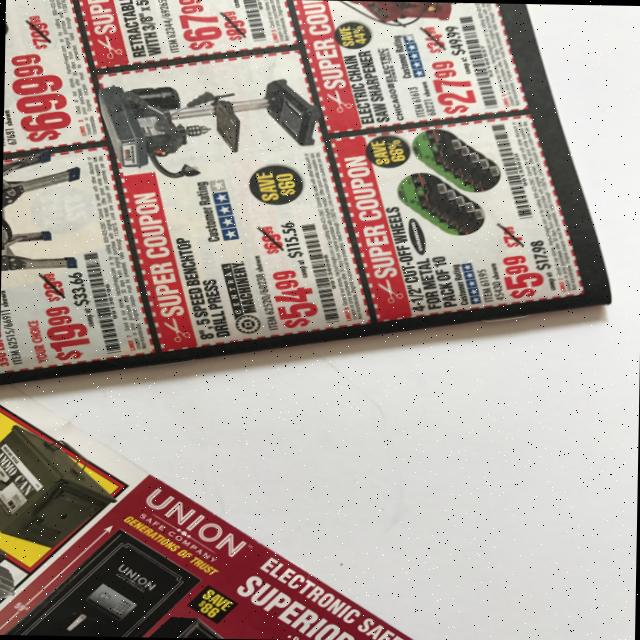paper: (0, 0, 618, 396)
